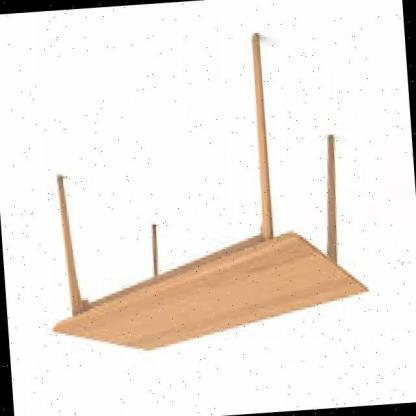Table: (25, 22, 378, 366)
